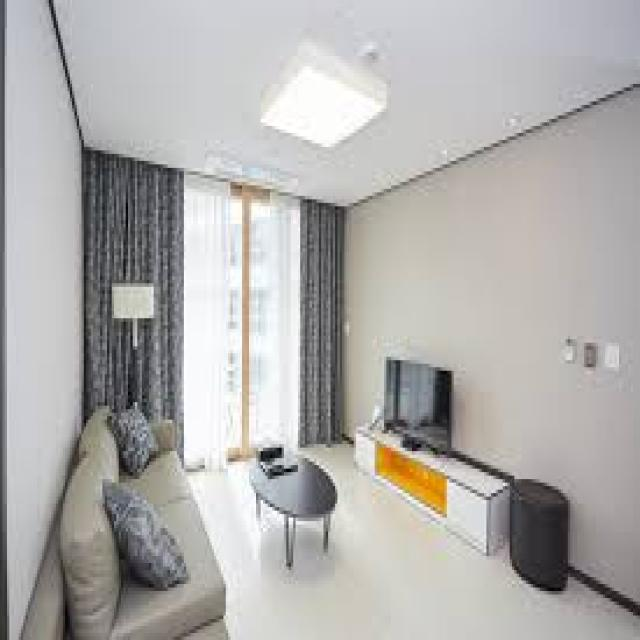Sofa: (19, 397, 234, 640)
Table: (248, 438, 339, 571)
tv: (383, 355, 456, 452)
window: (87, 151, 341, 418)
